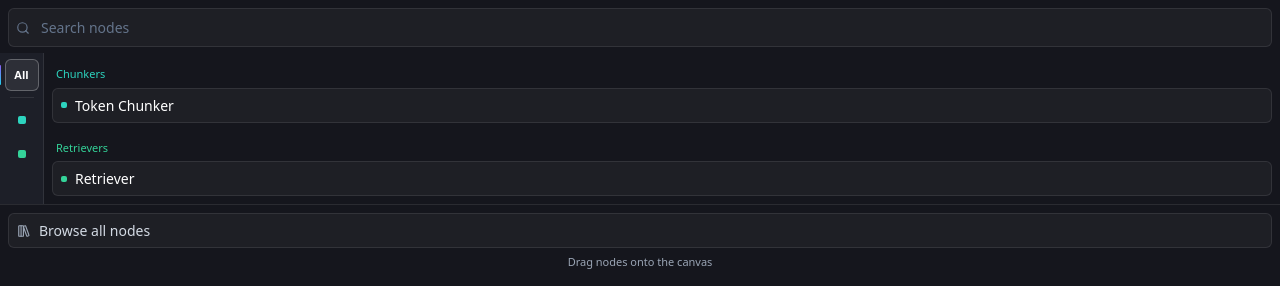
it: PipelineNodeLibrary › filters to one category from the rail and resets through All
What coordinates should you click on to do the following:
click the button named "Chunkers (1)"
I would click on:
 (22, 120)
Its box is [4,104,38,136].
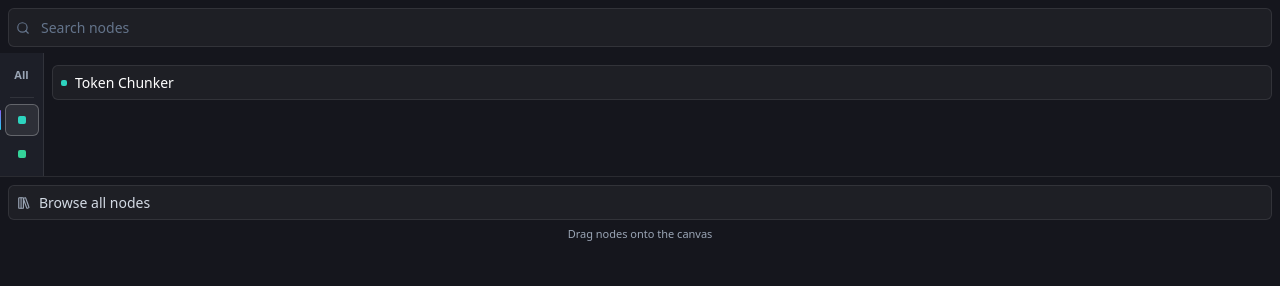
Expected: the button "Token Chunker" is shown, [52,65,1272,100]
Expected: the button "Retriever" is gone
What coordinates should you click on to do the following:
click the button with aria-label "All categories"
I would click on:
 (22, 75)
Its box is [4,59,38,91].
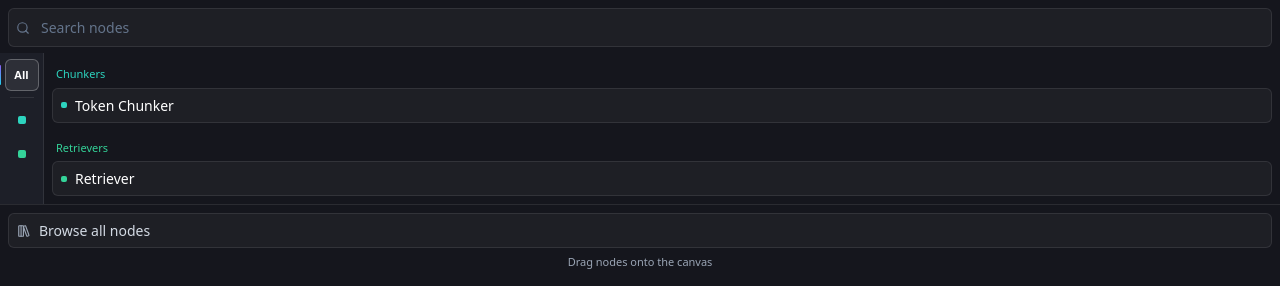
Expected: the button "Retriever" is shown, [52,161,1272,196]
